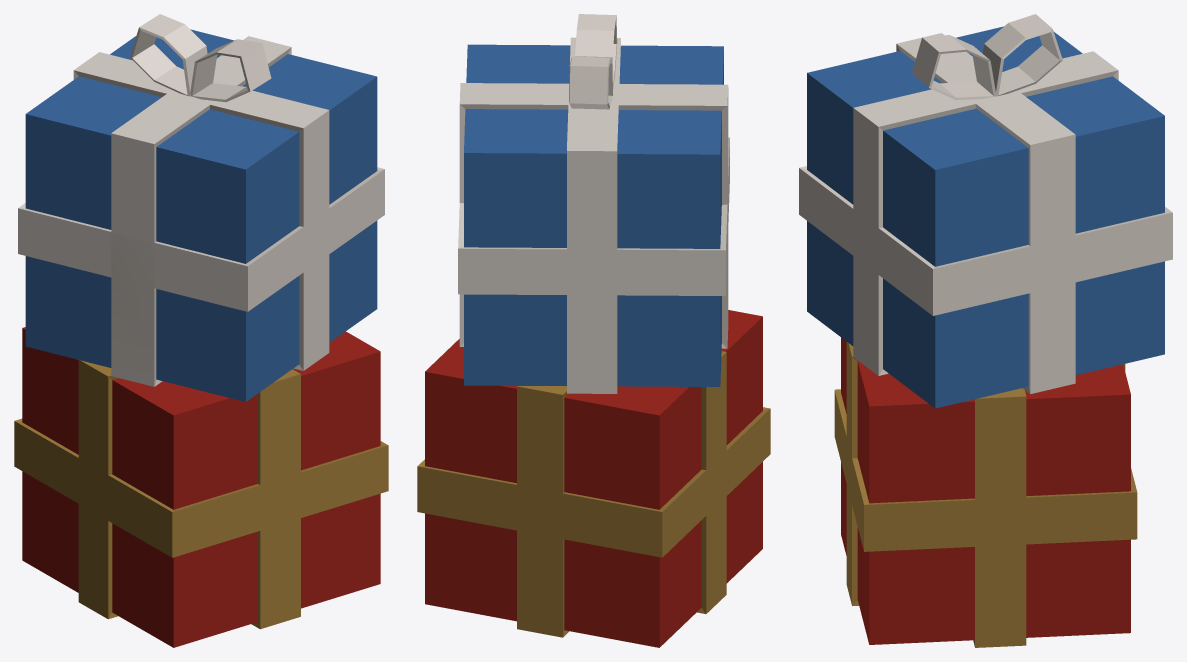
The model's file is Present_02.glb.
3 renders of one model, left to right at view 1: azimuth 30°, elevation 25°; view 2: azimuth 150°, elevation 25°; view 3: azimuth 270°, elevation 25°, orthographic. The views are drawn at different scales.
Parts seen in each view (by area): view 1: Present_01; view 2: Present_01; view 3: Present_01.
Boxes of the visible parts, bbox=[...] form: Present_01: bbox=[14, 14, 388, 647]; Present_01: bbox=[417, 14, 770, 647]; Present_01: bbox=[799, 14, 1172, 647].
Bounding box in the file's own units: 0.3162 × 0.5187 × 0.3162.
Materials: 1 (1 with a texture image).
